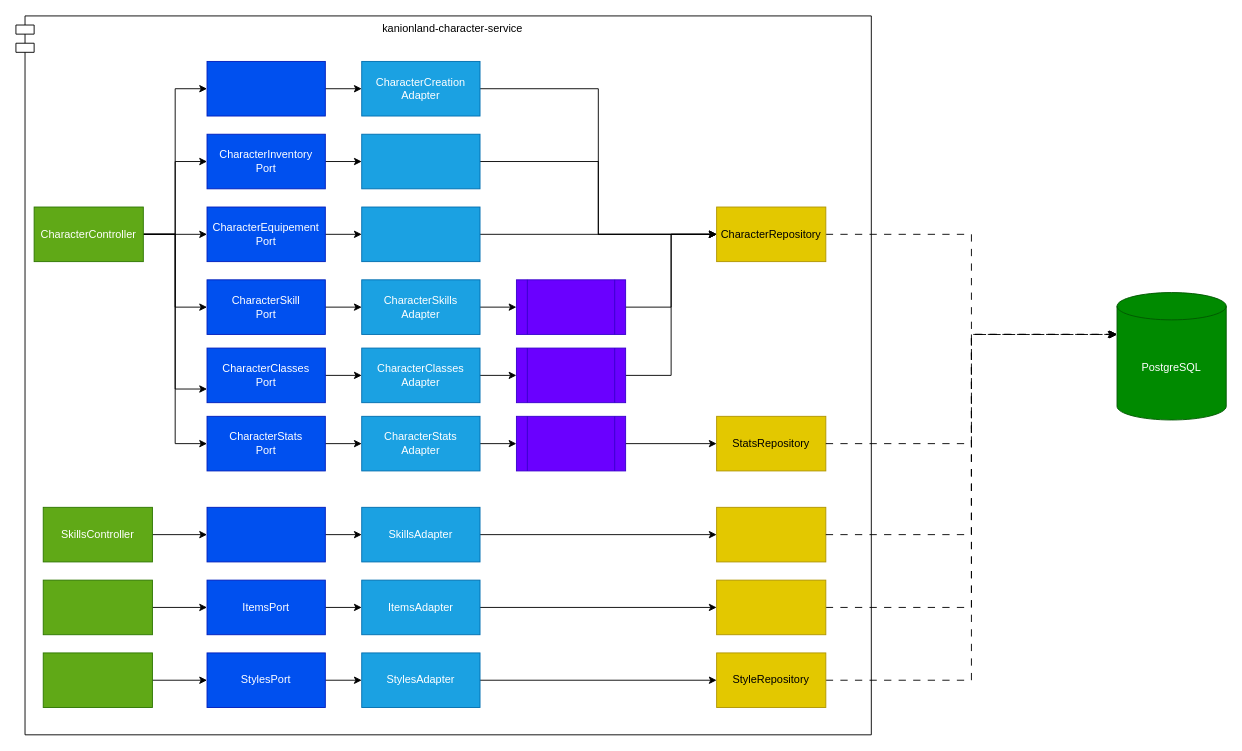
This 1242x751 diagram has some shape labels left out. Here are the shapes that lost their labels. From the top down, the centre of each, then its label:
At (x=265, y=88): "CharacterCreation Port".
At (x=420, y=161): "CharacterInventory Adapter".
At (x=420, y=234): "CharacterEquipement Adapter".
At (x=571, y=306): "SkillHandler".
At (x=571, y=375): "ClassesHandler".
At (x=571, y=443): "StatsHandler".
At (x=265, y=534): "SkillPort".
At (x=771, y=534): "SkillRepository".
At (x=97, y=607): "ItemsController".
At (x=771, y=607): "ItemRepository".
At (x=97, y=680): "StyleController".
